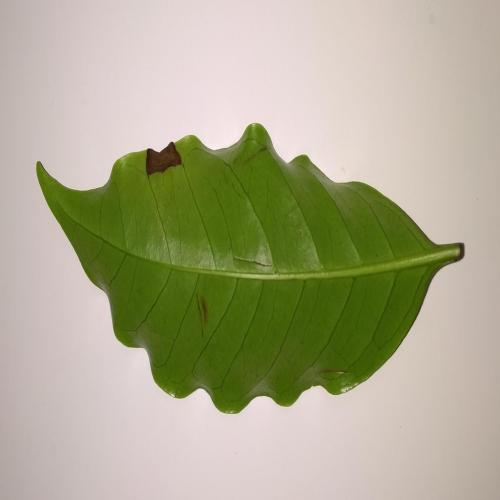miner: (145, 142, 181, 175)
